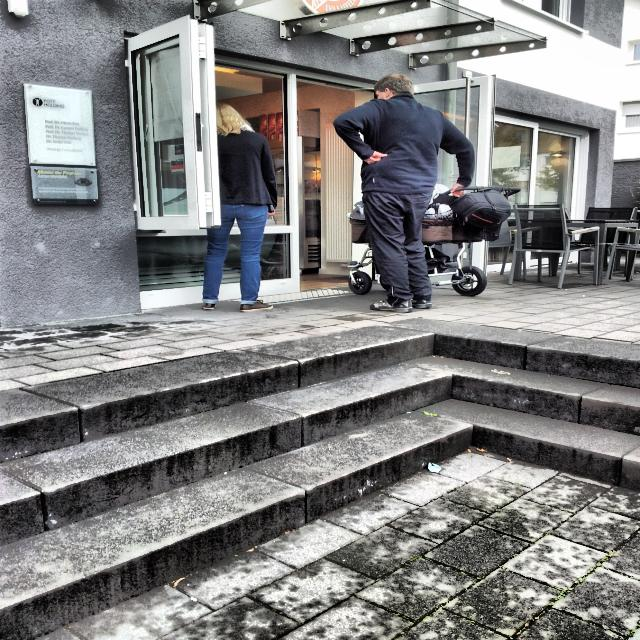escada: (2, 333, 640, 640)
